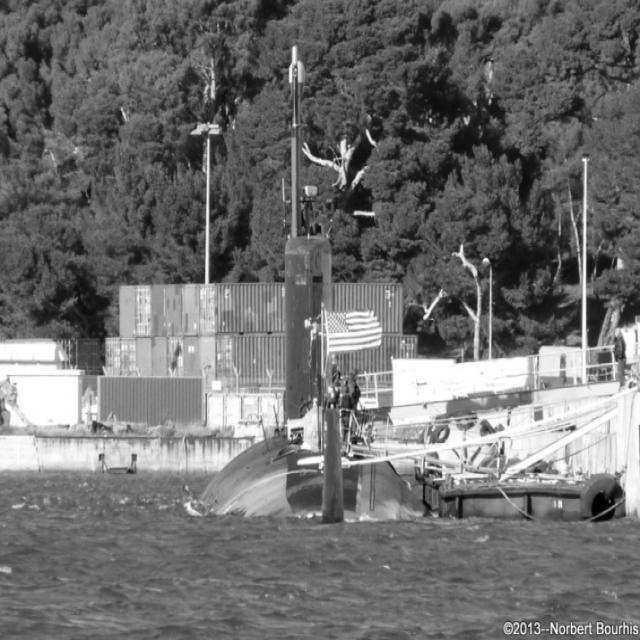submarine: (202, 46, 433, 533)
